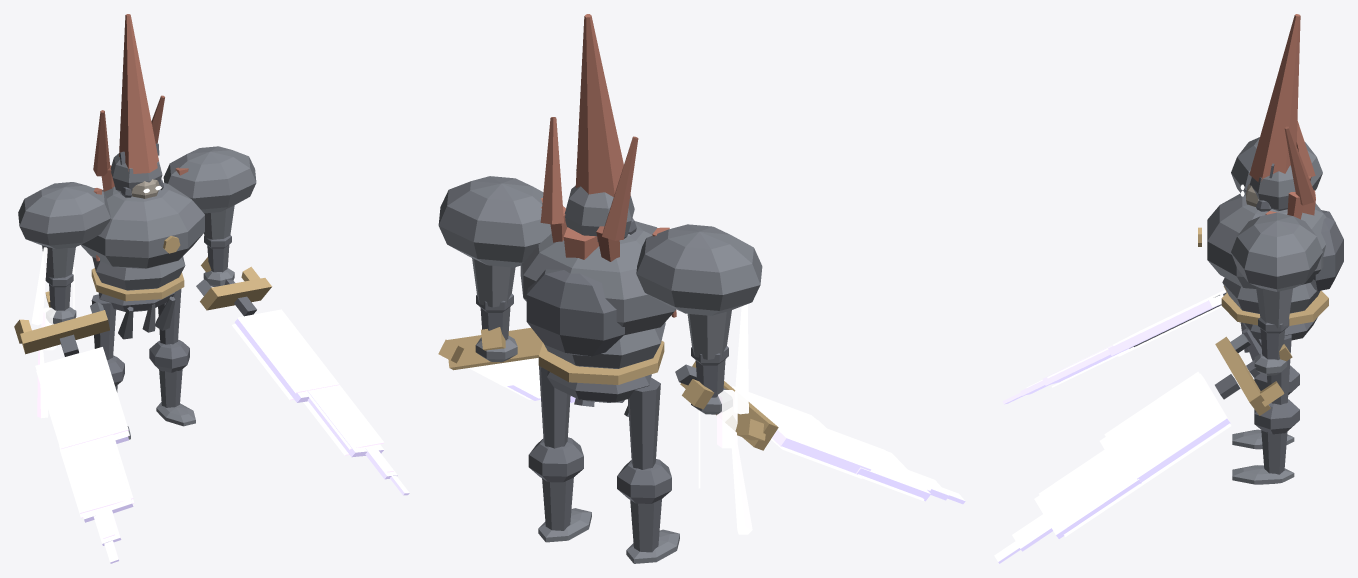
The model's file is radahn.glb.
The picture shows the model from 3 angles, left to right: view 1: azimuth 30°, elevation 25°; view 2: azimuth 150°, elevation 25°; view 3: azimuth 270°, elevation 25°; orthographic projection. The views are drawn at different scales.
Visible parts, largest first — view 1: chest, edgeUpR.001, pauldronL, pauldronR, edgeUpR, hairTip, edgeLowR.001, edgeLowR, belly, guard.001, guard, belt (+16 smaller); view 2: pauldronL, pauldronR, backplate, chest, hairTip, edgeUpR.001, legLThigh, belt, belly, helm, legRKnee, legLKnee (+21 smaller); view 3: edgeUpR, pauldronR, hairTip, edgeLowR, chest, backplate, belly, guard, helm, belt, bladeUp.001, pauldronL (+14 smaller).
Boxes of the visible parts, bbox=[...] form: chest: bbox=[81, 183, 204, 268]; edgeUpR.001: bbox=[35, 347, 128, 448]; pauldronL: bbox=[18, 182, 110, 249]; pauldronR: bbox=[163, 146, 256, 213]; edgeUpR: bbox=[237, 309, 339, 393]; hairTip: bbox=[119, 14, 158, 173]; edgeLowR.001: bbox=[59, 434, 133, 513]; edgeLowR: bbox=[305, 385, 384, 449]; belly: bbox=[92, 256, 185, 290]; guard.001: bbox=[20, 310, 109, 354]; guard: bbox=[200, 278, 271, 310]; belt: bbox=[91, 268, 184, 301]; pauldronL: bbox=[636, 224, 762, 315]; pauldronR: bbox=[438, 176, 551, 267]; backplate: bbox=[526, 269, 624, 356]; chest: bbox=[520, 221, 675, 335]; hairTip: bbox=[575, 14, 630, 196]; edgeUpR.001: bbox=[732, 386, 870, 466]; legLThigh: bbox=[628, 378, 660, 469]; belt: bbox=[538, 341, 664, 384]; belly: bbox=[544, 322, 665, 368]; helm: bbox=[564, 186, 634, 241]; legRKnee: bbox=[528, 437, 583, 482]; legLKnee: bbox=[617, 459, 671, 503]; edgeUpR: bbox=[1104, 371, 1225, 480]; pauldronR: bbox=[1231, 212, 1322, 291]; hairTip: bbox=[1249, 14, 1300, 181]; edgeLowR: bbox=[1039, 445, 1137, 530]; chest: bbox=[1207, 191, 1326, 289]; backplate: bbox=[1310, 210, 1343, 291]; belly: bbox=[1222, 278, 1320, 313]; guard: bbox=[1215, 336, 1270, 415]; helm: bbox=[1249, 165, 1295, 210]; belt: bbox=[1221, 290, 1328, 325]; bladeUp.001: bbox=[1108, 294, 1223, 355]; pauldronL: bbox=[1231, 137, 1322, 192].
Size of the model in its own units: 9.13 by 12.16 by 8.22.
